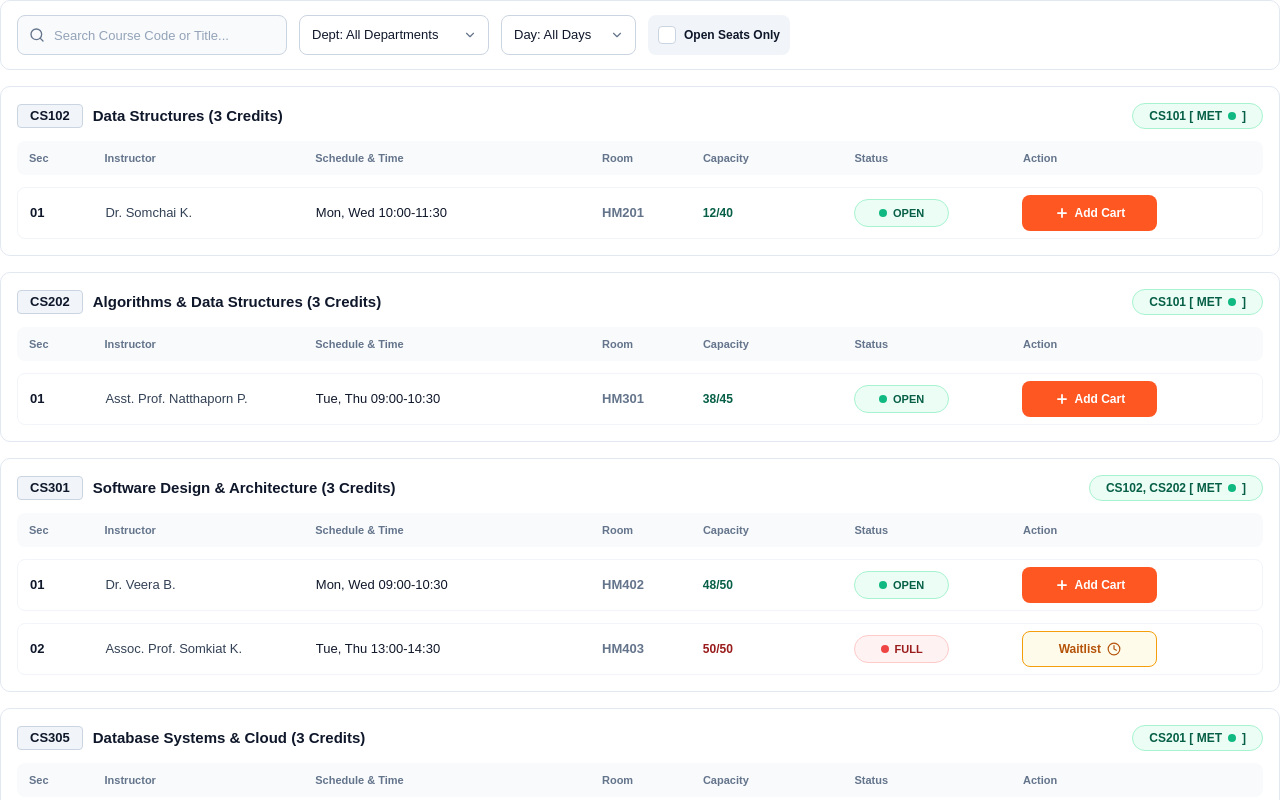
CatalogPane › joins the waitlist for a full section
The width and height of the screenshot is (1280, 800).
Click the button "Waitlist" at (1090, 649), box [1022,631,1157,667]
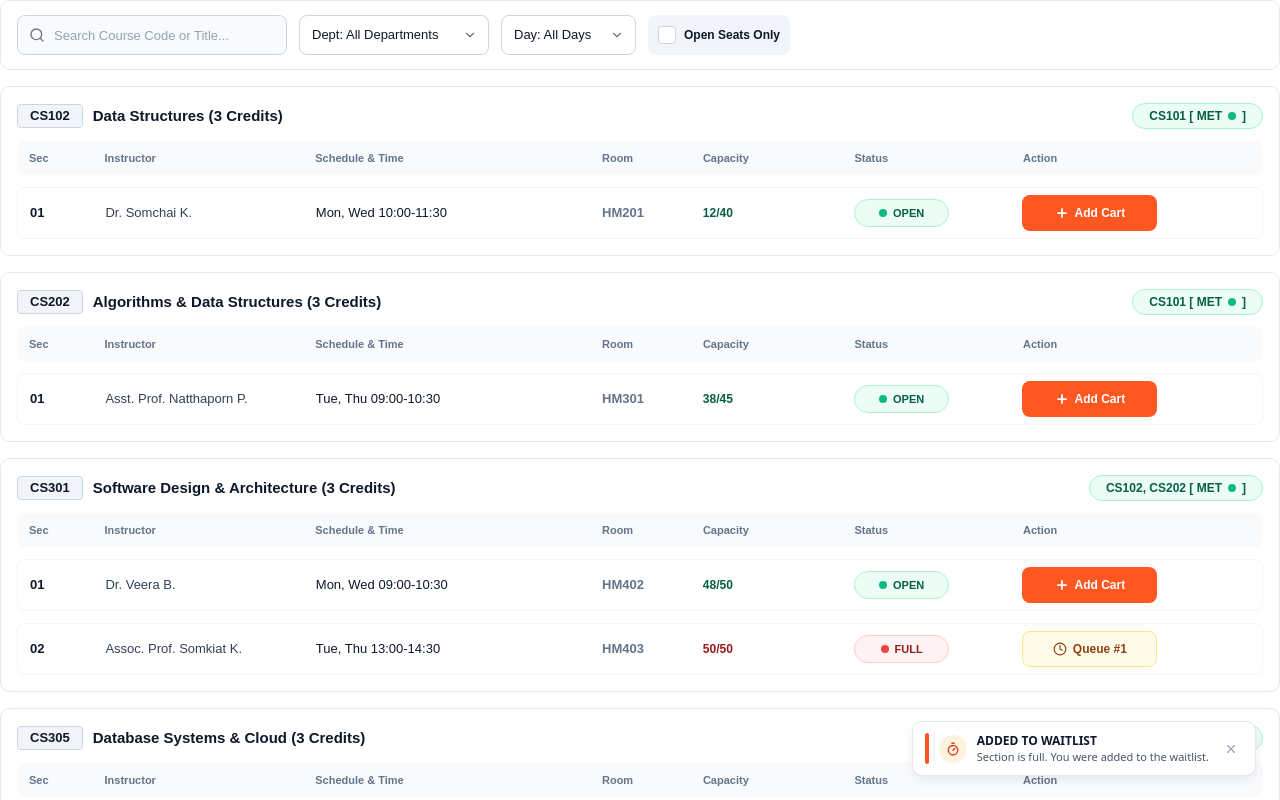
Now the text "Section is full. You were added to the waitlist." is shown, box [977,750,1209,764]
